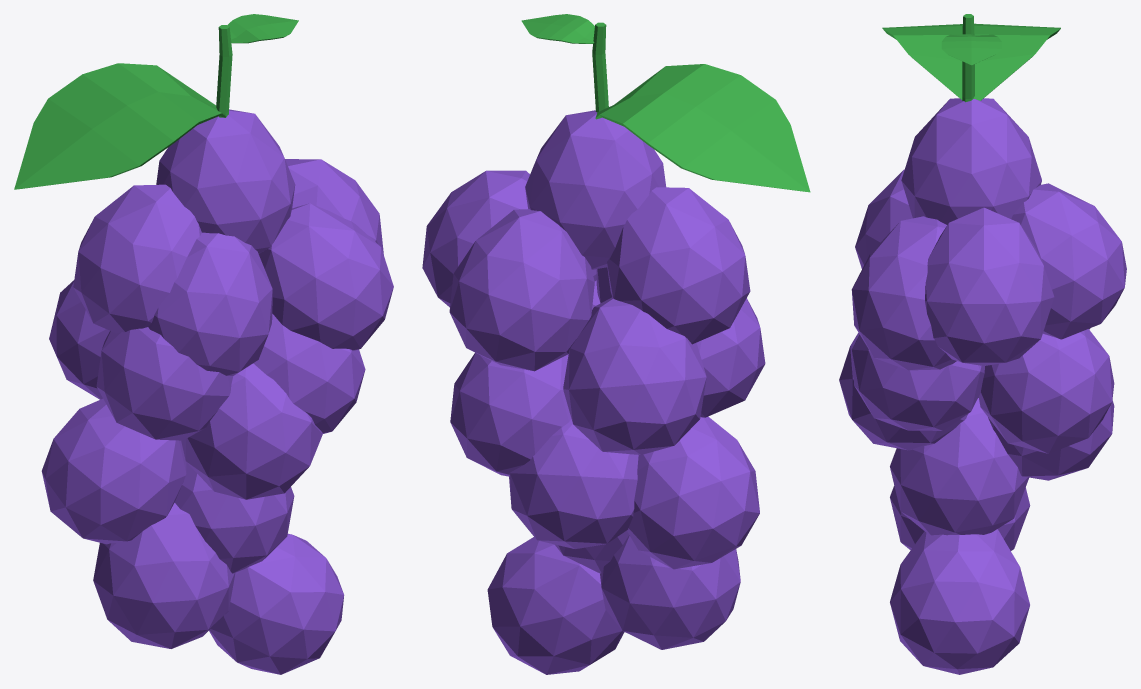
Rendered from GRAPES.fbx.
3 renders of one model, left to right at view 1: azimuth 30°, elevation 25°; view 2: azimuth 150°, elevation 25°; view 3: azimuth 270°, elevation 25°, orthographic. The views are drawn at different scales.
Parts seen in each view (by area): view 1: Icosphere.018; view 2: Icosphere.018; view 3: Icosphere.018.
Boxes of the visible parts, x1=… form: Icosphere.018: x1=14, y1=14, x2=393, y2=674; Icosphere.018: x1=422, y1=14, x2=810, y2=674; Icosphere.018: x1=839, y1=14, x2=1126, y2=674.
Bounding box in the file's own units: 242 × 408 × 169.
